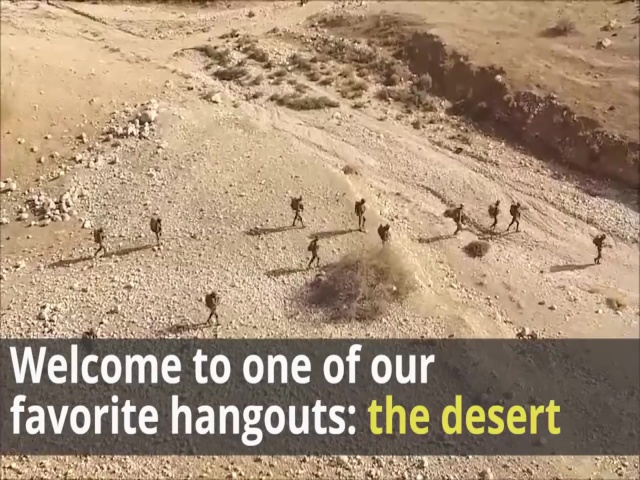person: (91, 227, 108, 262), (305, 234, 321, 268), (290, 194, 305, 230), (204, 290, 219, 326), (448, 203, 464, 236), (147, 215, 163, 248), (353, 197, 368, 232), (487, 200, 501, 231), (377, 221, 391, 250), (508, 202, 521, 233), (593, 232, 605, 265)
